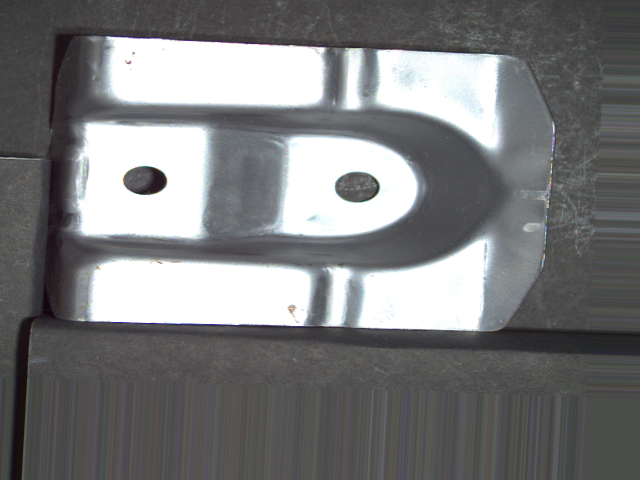defect: (329, 168, 383, 205)
